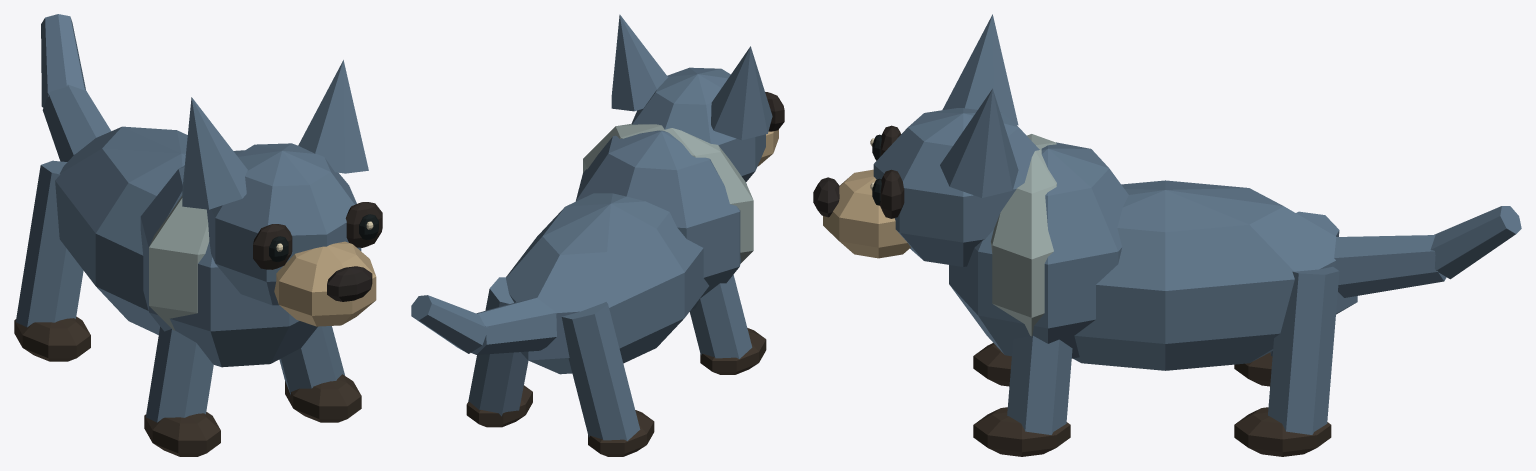
The model's file is fauna-brine_hound.glb.
The picture shows the model from 3 angles, left to right: view 1: azimuth 30°, elevation 25°; view 2: azimuth 150°, elevation 25°; view 3: azimuth 270°, elevation 25°; orthographic projection. The views are drawn at different scales.
Parts seen in each view (by area): view 1: Fauna_brine_hound; view 2: Fauna_brine_hound; view 3: Fauna_brine_hound.
Part boxes in pixels (bbox=[...]): Fauna_brine_hound: bbox=[14, 14, 382, 456]; Fauna_brine_hound: bbox=[411, 14, 784, 456]; Fauna_brine_hound: bbox=[813, 14, 1521, 456].
Bounding box in the file's own units: 0.7132 × 1.24 × 2.17.
